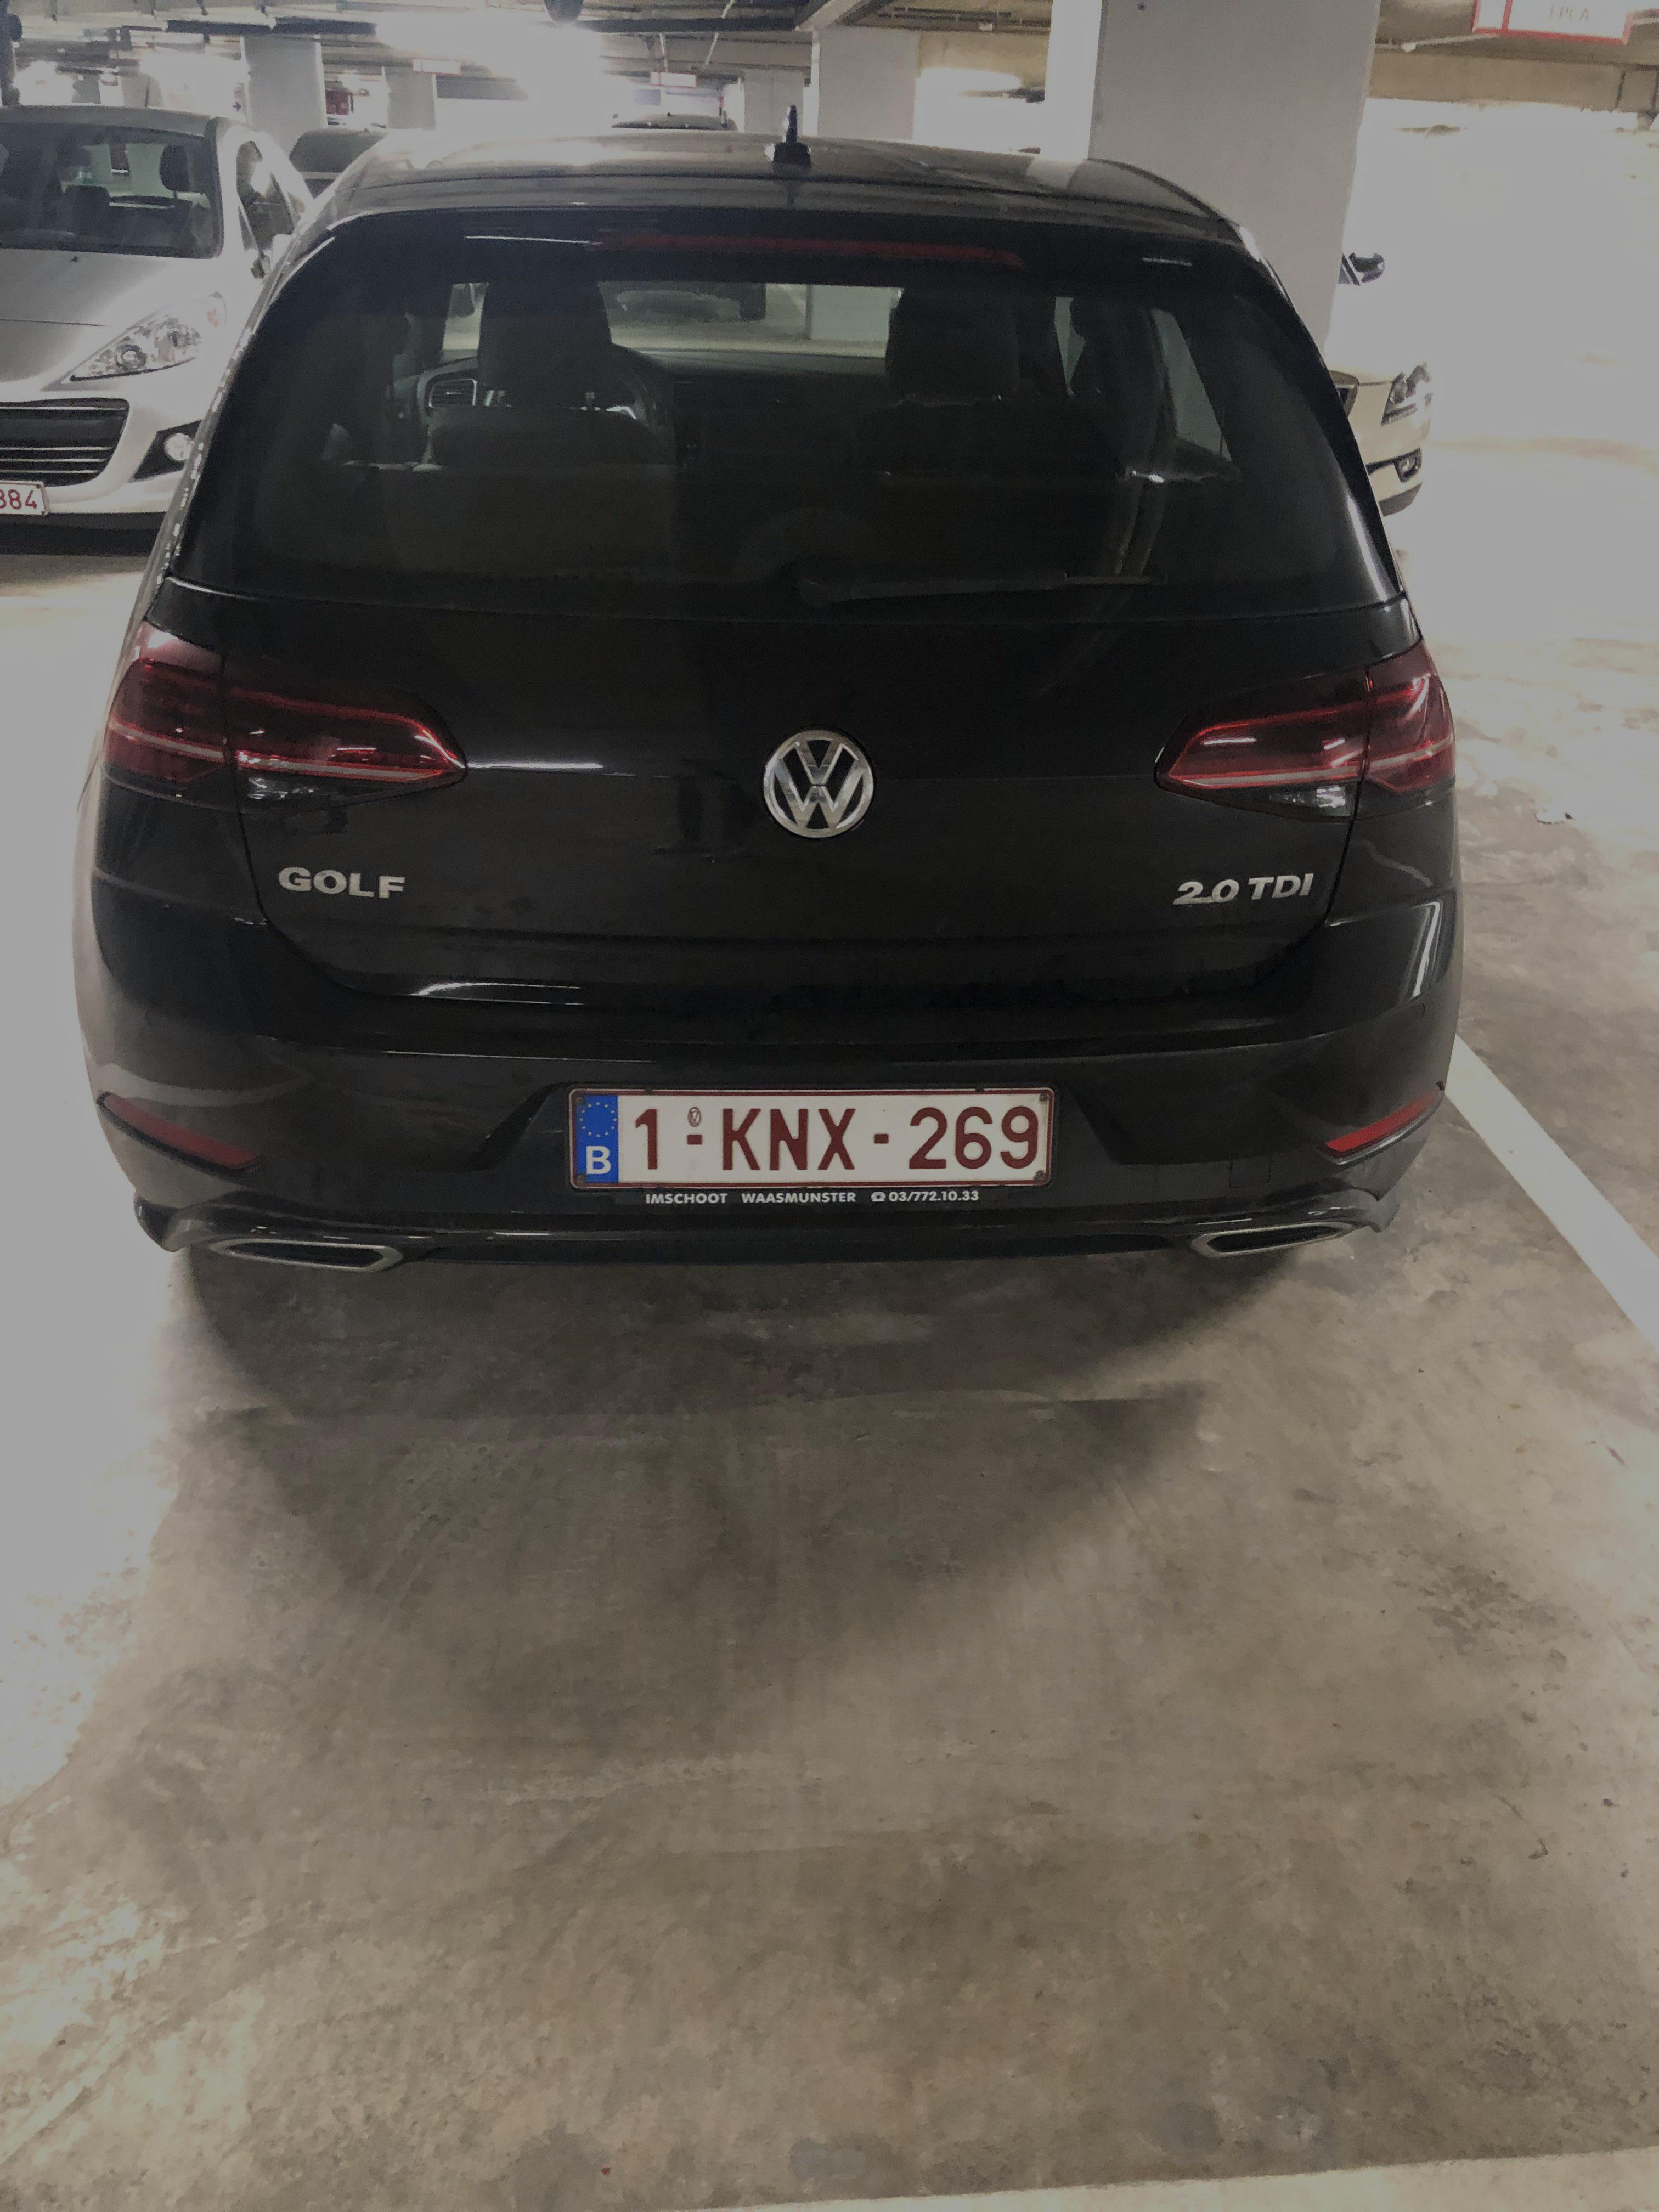plate: (547, 1080, 1080, 1205)
